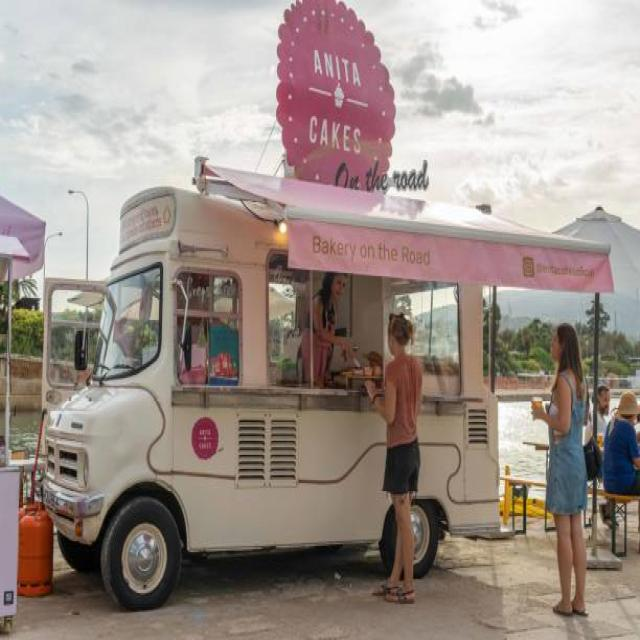Emperan: (29, 7, 626, 621)
